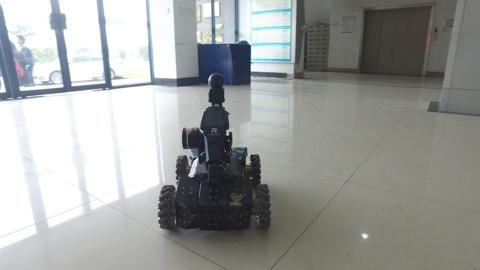chariot: (146, 66, 292, 236)
